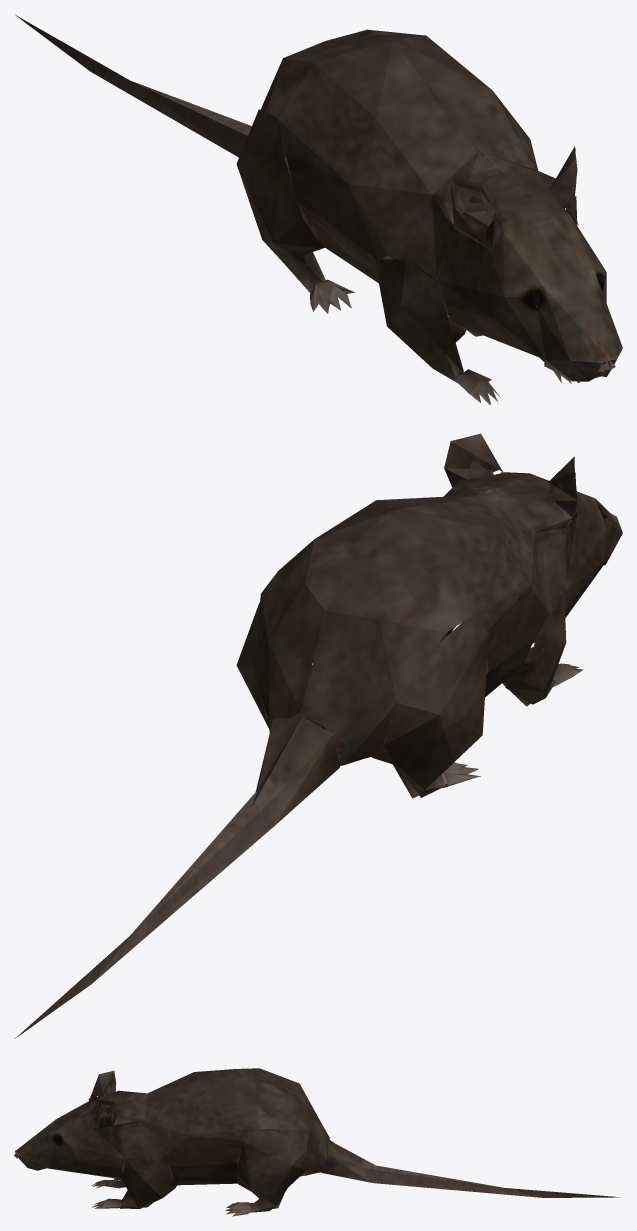
Rendered from street_rat.glb.
3 renders of one model, top to bottom at view 1: azimuth 30°, elevation 25°; view 2: azimuth 150°, elevation 25°; view 3: azimuth 270°, elevation 25°, orthographic. The views are drawn at different scales.
Visible parts, largest first — view 1: street_rat; view 2: street_rat; view 3: street_rat.
Boxes of the visible parts, box(x1,y1,x2,y2) form: street_rat: box(15, 15, 622, 404); street_rat: box(15, 433, 622, 1038); street_rat: box(14, 1068, 619, 1216).
Bounding box in the file's own units: 0.03 × 0.0349 × 0.1484.
Materials: 1 (1 with a texture image).
